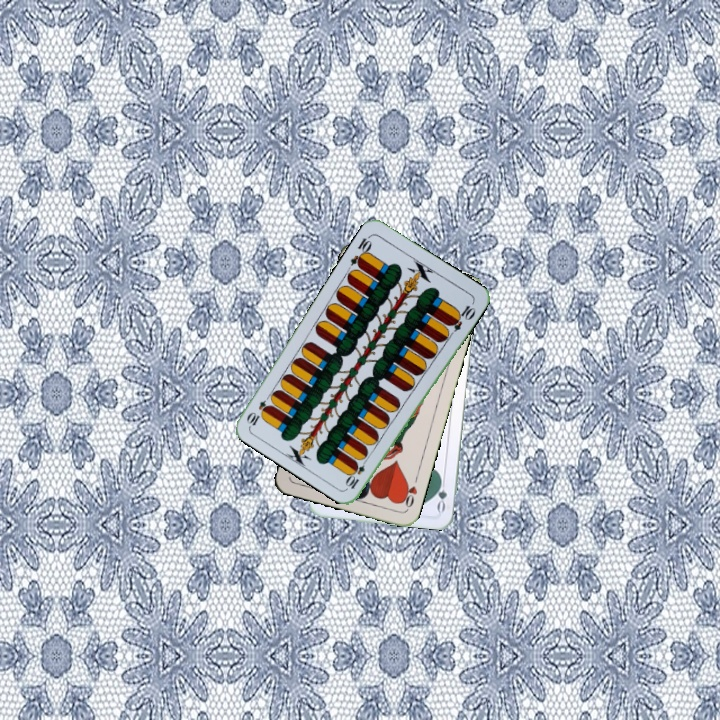E10: (346, 231, 375, 270), (343, 453, 371, 491)
GO: (433, 473, 449, 514)
HO: (397, 472, 421, 512)
